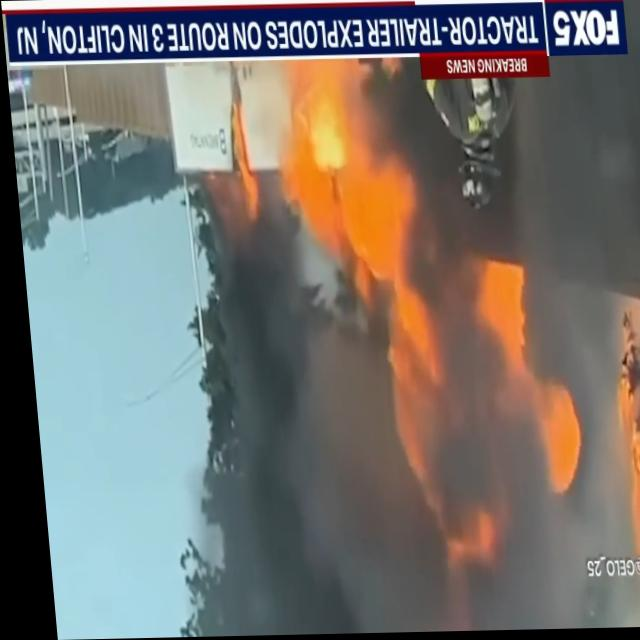Fire: (356, 277, 481, 573), (459, 258, 581, 488), (277, 58, 410, 263), (610, 385, 640, 582)
